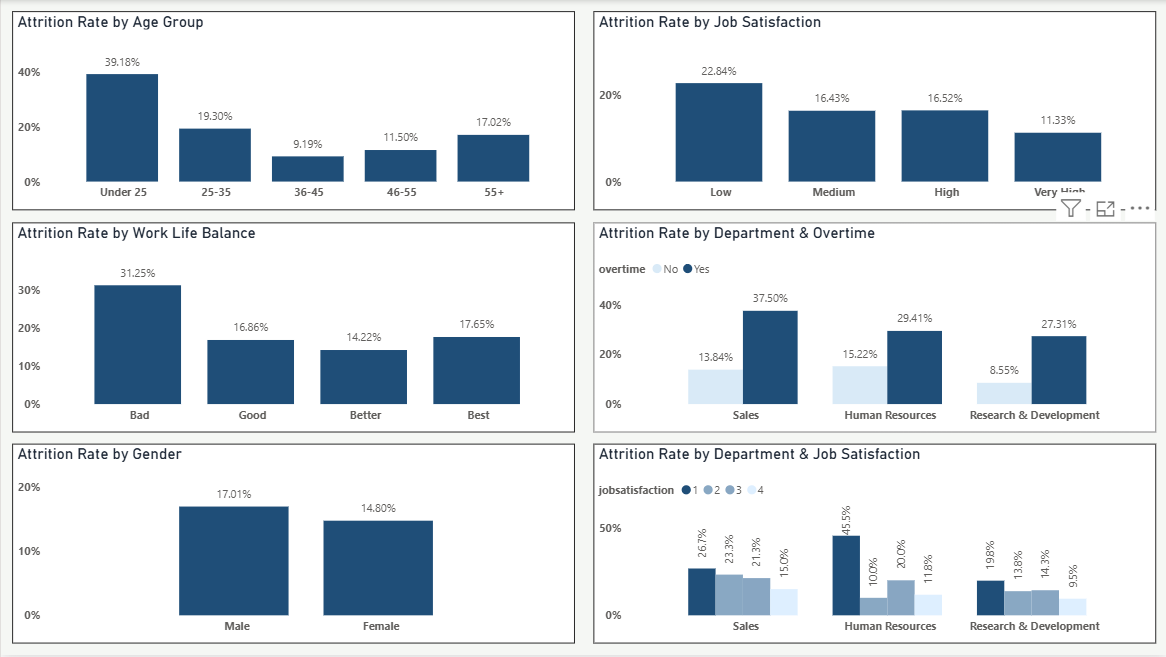

The dashboard page shown, as its layout file describes it:
{"tool":"powerbi","page":{"name":"Employee Insights","canvas":[1280,720],"ordinal":1},"visuals":[{"type":"clusteredColumnChart","title":"Attrition Rate by Age Group","fields":{"Y":["public hr_employee.Attririon Rate"],"Category":["public hr_employee.Age Group Clean"]},"box":[12.3,12.3,617.5,218.2],"z":0},{"type":"clusteredColumnChart","title":"Attrition Rate by Job Satisfaction ","fields":{"Y":["public hr_employee.Attririon Rate"],"Category":["public hr_employee.Job satisfaction Label"]},"box":[650.4,12.3,617.5,218.2],"z":1000},{"type":"clusteredColumnChart","title":"Attrition Rate by Work Life Balance","fields":{"Y":["public hr_employee.Attririon Rate"],"Category":["public hr_employee.Work Life Balance Label 2"]},"box":[12.3,244.3,617.5,230.5],"z":2000},{"type":"clusteredColumnChart","title":"Attrition Rate by Department & Overtime","fields":{"Y":["public hr_employee.Attririon Rate"],"Category":["public hr_employee.department"],"Series":["public hr_employee.overtime"]},"box":[650.4,244.3,617.5,230.5],"z":3000},{"type":"clusteredColumnChart","title":"Attrition Rate by Department & Job Satisfaction","fields":{"Y":["public hr_employee.Attririon Rate"],"Category":["public hr_employee.department"],"Series":["public hr_employee.jobsatisfaction"]},"box":[650.4,487.1,617.5,219.6],"z":4000},{"type":"clusteredColumnChart","title":"Attrition Rate by Gender","fields":{"Category":["public hr_employee.gender"],"Y":["public hr_employee.Attririon Rate"]},"box":[12.3,487.1,617.5,219.6],"z":5000}]}

Visuals, with their boxes in screenshot pixels (x1, y1, x2, y2), scaled from the page's 1280x720 canvas onto the 1166x657 screenshot:
"Attrition Rate by Age Group" clusteredColumnChart: x1=11, y1=11, x2=574, y2=210
"Attrition Rate by Job Satisfaction " clusteredColumnChart: x1=592, y1=11, x2=1155, y2=210
"Attrition Rate by Work Life Balance" clusteredColumnChart: x1=11, y1=223, x2=574, y2=433
"Attrition Rate by Department & Overtime" clusteredColumnChart: x1=592, y1=223, x2=1155, y2=433
"Attrition Rate by Department & Job Satisfaction" clusteredColumnChart: x1=592, y1=444, x2=1155, y2=645
"Attrition Rate by Gender" clusteredColumnChart: x1=11, y1=444, x2=574, y2=645
